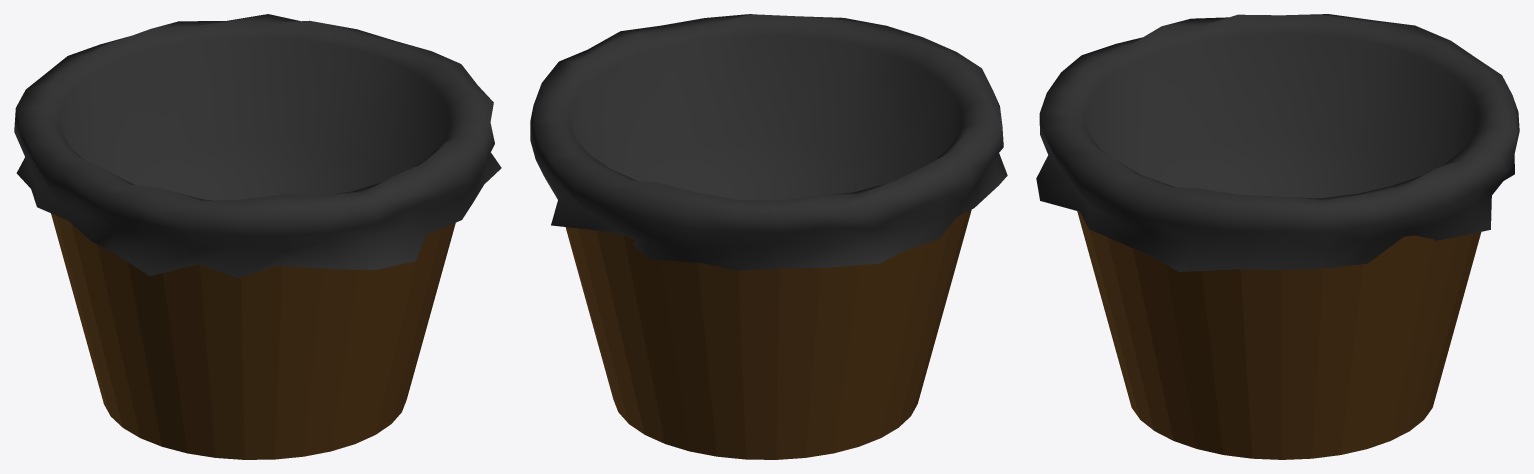
Rendered from trash.fbx.
3 renders of one model, left to right at view 1: azimuth 30°, elevation 25°; view 2: azimuth 150°, elevation 25°; view 3: azimuth 270°, elevation 25°, orthographic.
Visible parts, largest first — view 1: Cylinder; view 2: Cylinder; view 3: Cylinder.
Boxes of the visible parts, x1,y1,x2,y2 form: Cylinder: (14, 14, 501, 459); Cylinder: (530, 14, 1007, 459); Cylinder: (1036, 14, 1519, 459).
Bounding box in the file's own units: 78.42 × 52.53 × 78.73.
